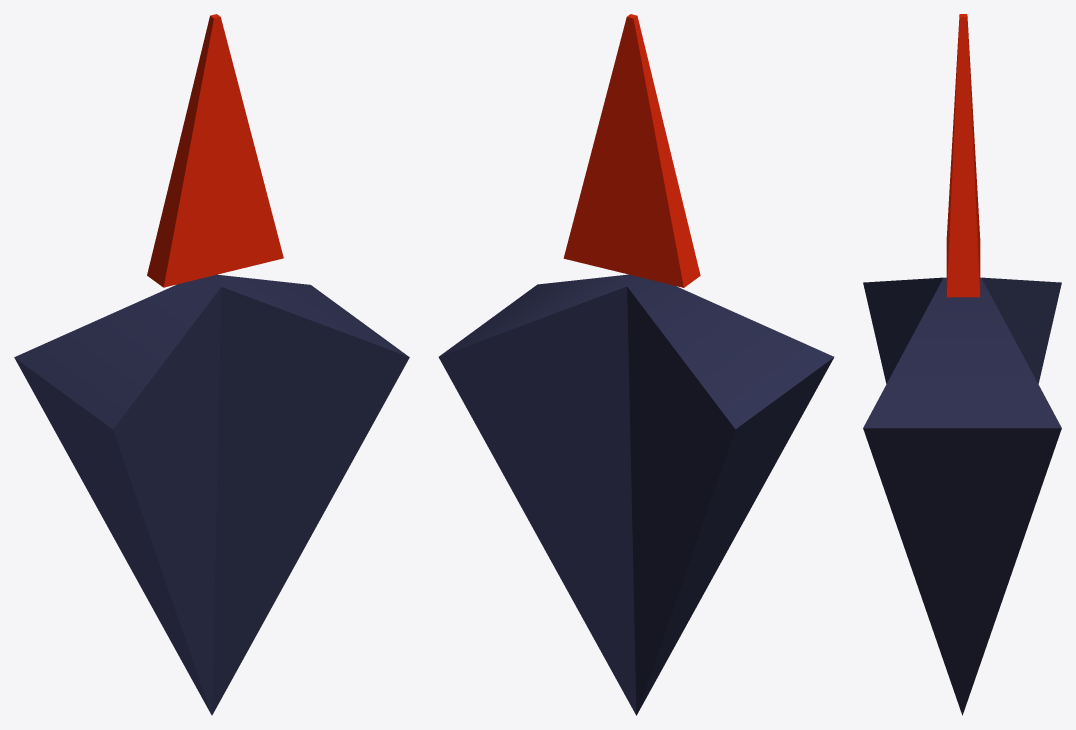
Rendered from shiptest.glb.
3 views of the same model, side by side, from view 1: azimuth 30°, elevation 25°; view 2: azimuth 150°, elevation 25°; view 3: azimuth 270°, elevation 25° (orthographic).
Visible parts, largest first — view 1: Cube; view 2: Cube; view 3: Cube.
Boxes of the visible parts, bbox=[...] form: Cube: bbox=[14, 14, 409, 715]; Cube: bbox=[438, 14, 834, 715]; Cube: bbox=[863, 14, 1061, 715].
Bounding box in the file's own units: 0.7466 × 1.68 × 0.431.
